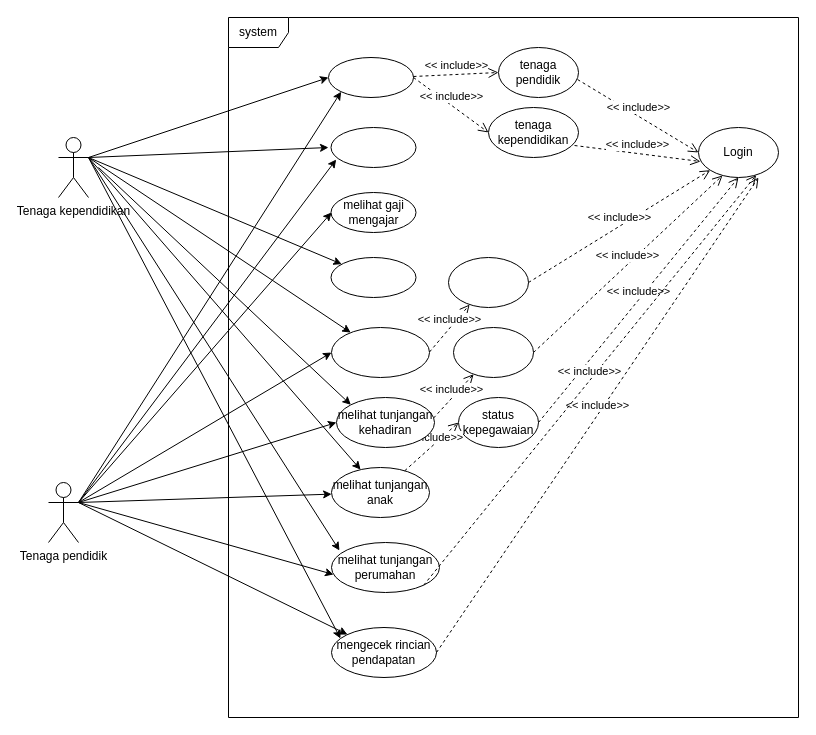
This 816x735 diagram has some shape labels left out. Each missing label, with the box of its shape:
melihat gaji pokok: (330, 126, 416, 168)
melihat tunjangan: (330, 256, 416, 298)
melihat tunjangan keluarga: (330, 326, 430, 378)
Memilih login user: (328, 56, 414, 98)
status berkeluarga: (448, 256, 528, 308)
status kepemilikin anak: (452, 326, 534, 378)
